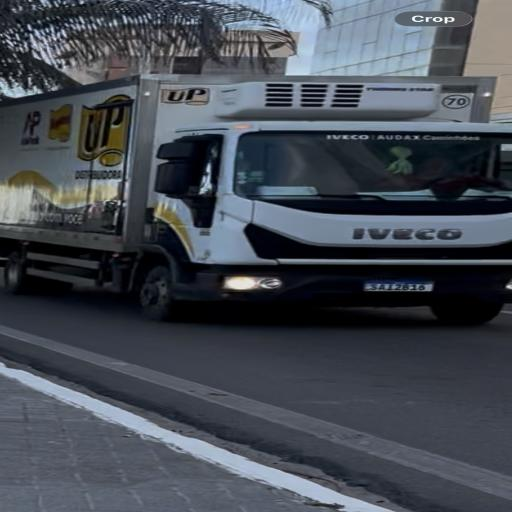detec-o-placas: (345, 274, 453, 304)
